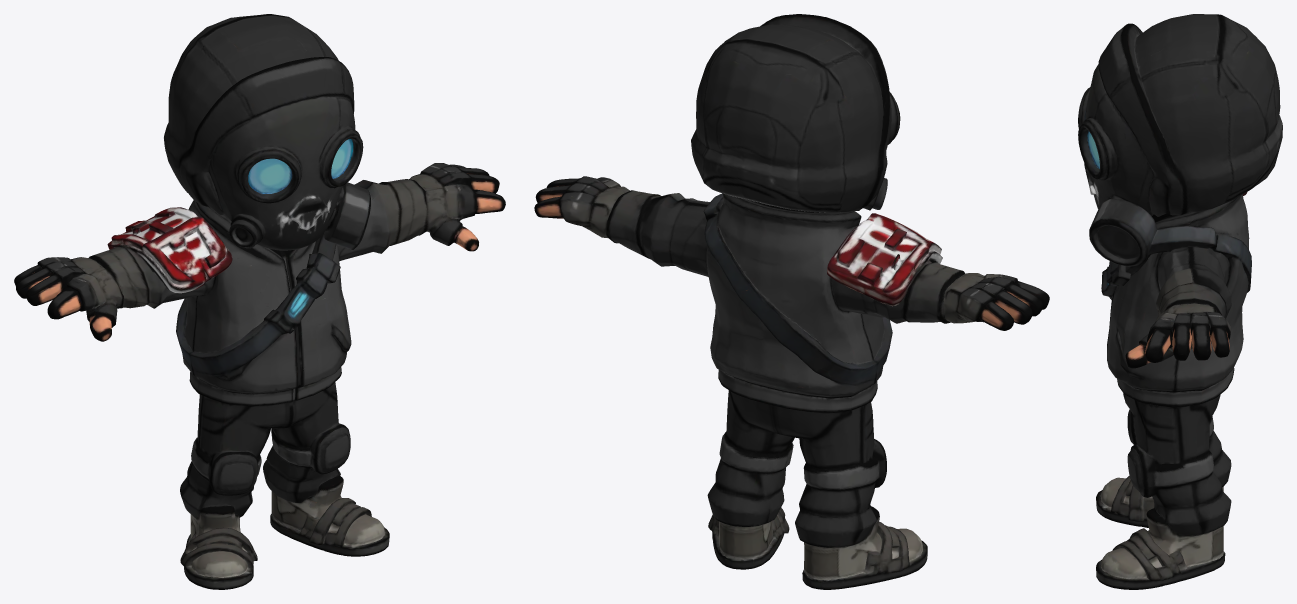
File: hush.glb
The picture shows the model from 3 angles, left to right: view 1: azimuth 30°, elevation 25°; view 2: azimuth 150°, elevation 25°; view 3: azimuth 270°, elevation 25°; orthographic projection. The views are drawn at different scales.
Visible parts, largest first — view 1: world; view 2: world; view 3: world.
Boxes of the visible parts, x1,y1,x2,y2 form: world: [14, 14, 505, 589]; world: [534, 14, 1049, 589]; world: [1078, 14, 1282, 589].
Size of the model in its own units: 0.9695 by 1 by 0.3599.
Materials: 1 (1 with a texture image).
